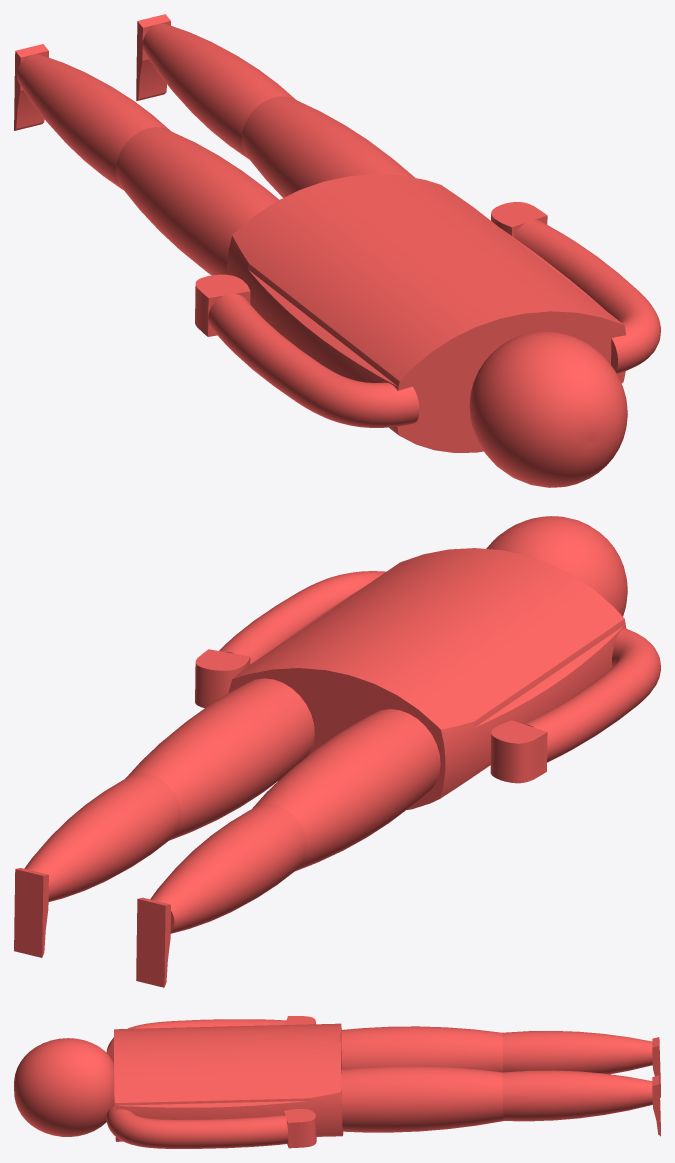
The model's file is human.gltf.
3 renders of one model, top to bottom at view 1: azimuth 30°, elevation 25°; view 2: azimuth 150°, elevation 25°; view 3: azimuth 270°, elevation 25°, orthographic. The views are drawn at different scales.
Visible parts, largest first — view 1: Body_1; view 2: Body_1; view 3: Body_1.
Boxes of the visible parts, bbox=[...] form: Body_1: bbox=[14, 14, 660, 487]; Body_1: bbox=[14, 516, 660, 987]; Body_1: bbox=[14, 1016, 660, 1148].
Size of the model in its own units: 1.02 by 0.3997 by 2.49.
